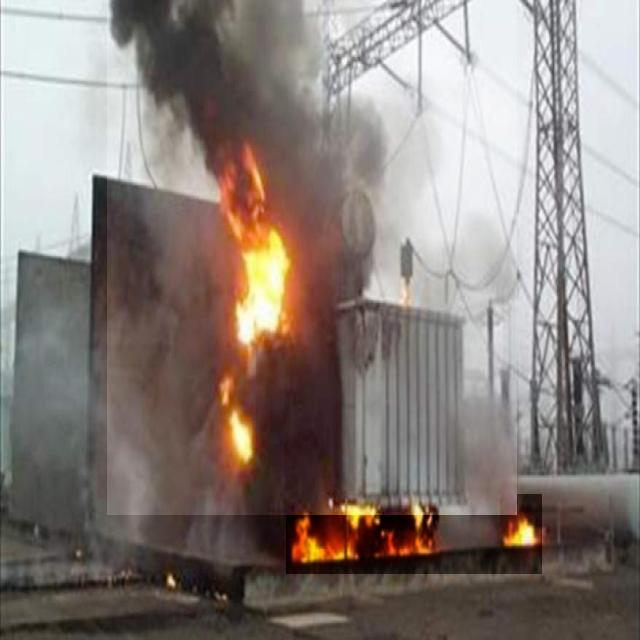Fire: (208, 148, 289, 462), (286, 494, 542, 574)
Smoke: (107, 0, 517, 515)
